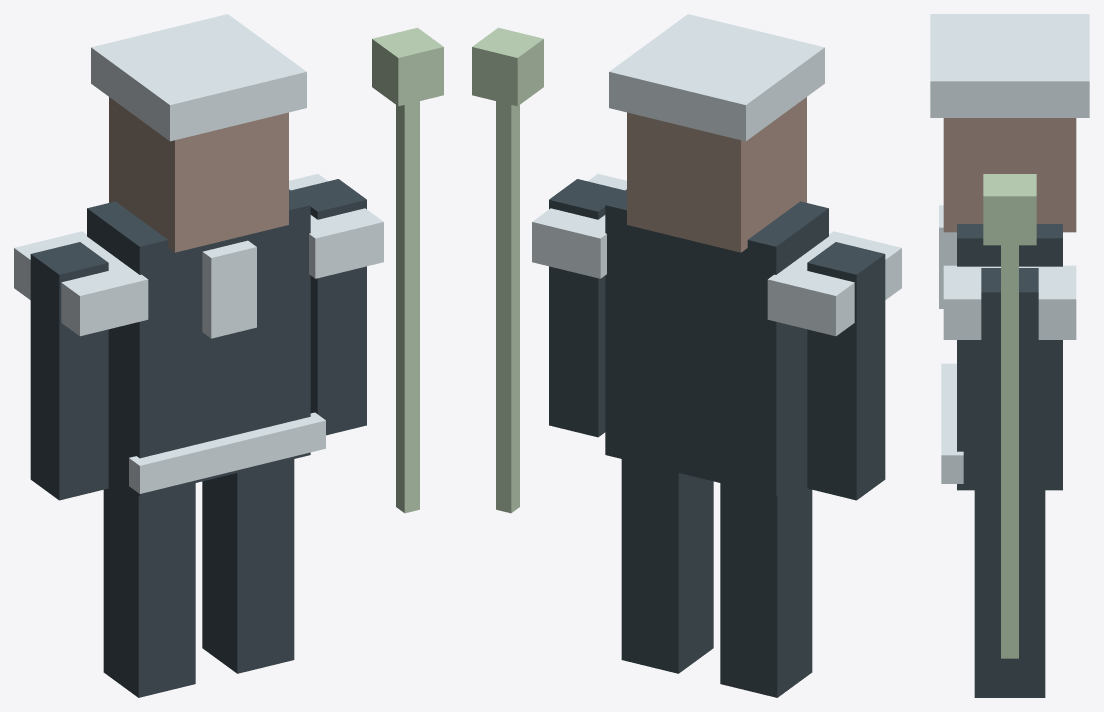
File: 04_luma_latchward_runner_near_recovery.glb
3 views of the same model, side by side, from view 1: azimuth 30°, elevation 25°; view 2: azimuth 150°, elevation 25°; view 3: azimuth 270°, elevation 25° (orthographic).
Parts seen in each view (by area): view 1: Luma Latchward, Runner near Recovery; view 2: Luma Latchward, Runner near Recovery; view 3: Luma Latchward, Runner near Recovery.
Part boxes in pixels (x1,y1,x2,y2): Luma Latchward, Runner near Recovery: [14, 14, 443, 697]; Luma Latchward, Runner near Recovery: [472, 14, 901, 697]; Luma Latchward, Runner near Recovery: [930, 14, 1089, 697].
Size of the model in its own units: 1.02 by 1.54 by 0.3624.
